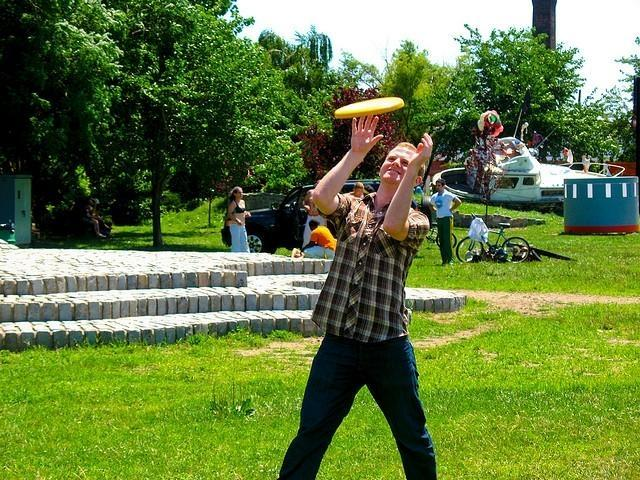bicycle: (458, 223, 530, 263), (426, 228, 458, 249)
car: (245, 180, 432, 254)
